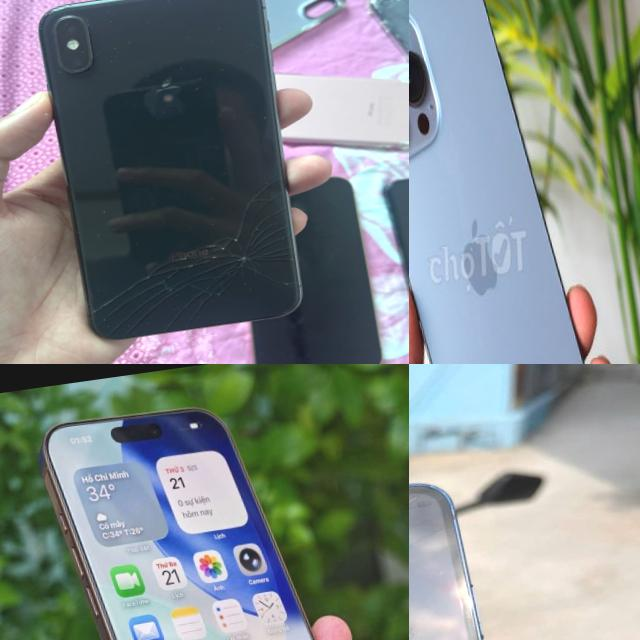gen_12_13: (409, 0, 622, 364), (409, 471, 543, 640)
gen_16: (40, 408, 315, 640)
gen_x_xs: (43, 0, 306, 345)
